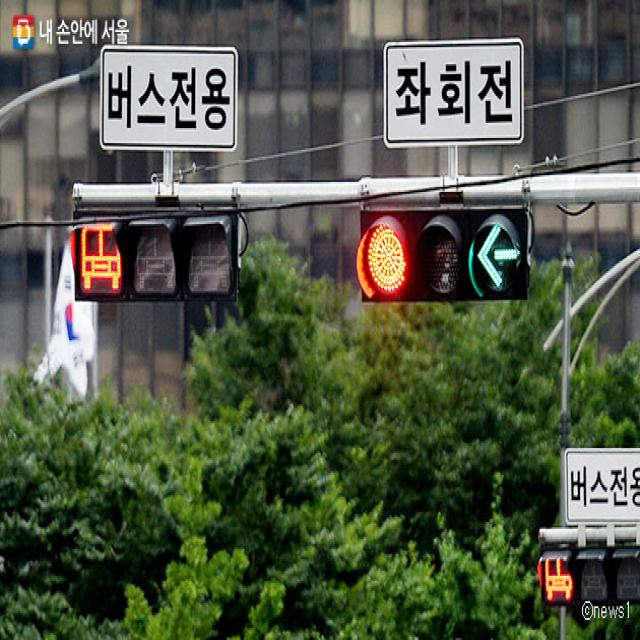Red Light: (355, 211, 416, 308)
